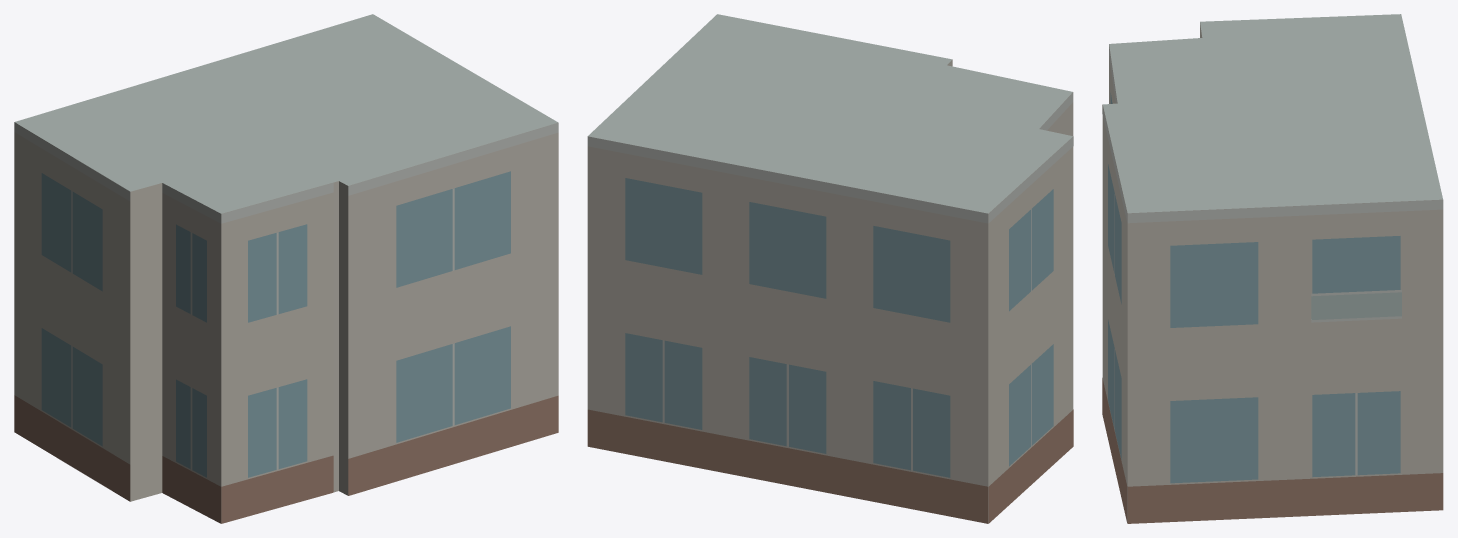
The model's file is survey-upis-32620141.glb.
3 renders of one model, left to right at view 1: azimuth 30°, elevation 25°; view 2: azimuth 150°, elevation 25°; view 3: azimuth 270°, elevation 25°, orthographic.
Parts seen in each view (by area): view 1: survey-upis-32620141.tmp; view 2: survey-upis-32620141.tmp; view 3: survey-upis-32620141.tmp.
Part boxes in pixels (box(x1,y1,x2,y2)): survey-upis-32620141.tmp: box(14, 14, 558, 523); survey-upis-32620141.tmp: box(587, 14, 1073, 523); survey-upis-32620141.tmp: box(1102, 14, 1443, 523).
Bounding box in the file's own units: 10.47 × 7.6 × 7.56.
